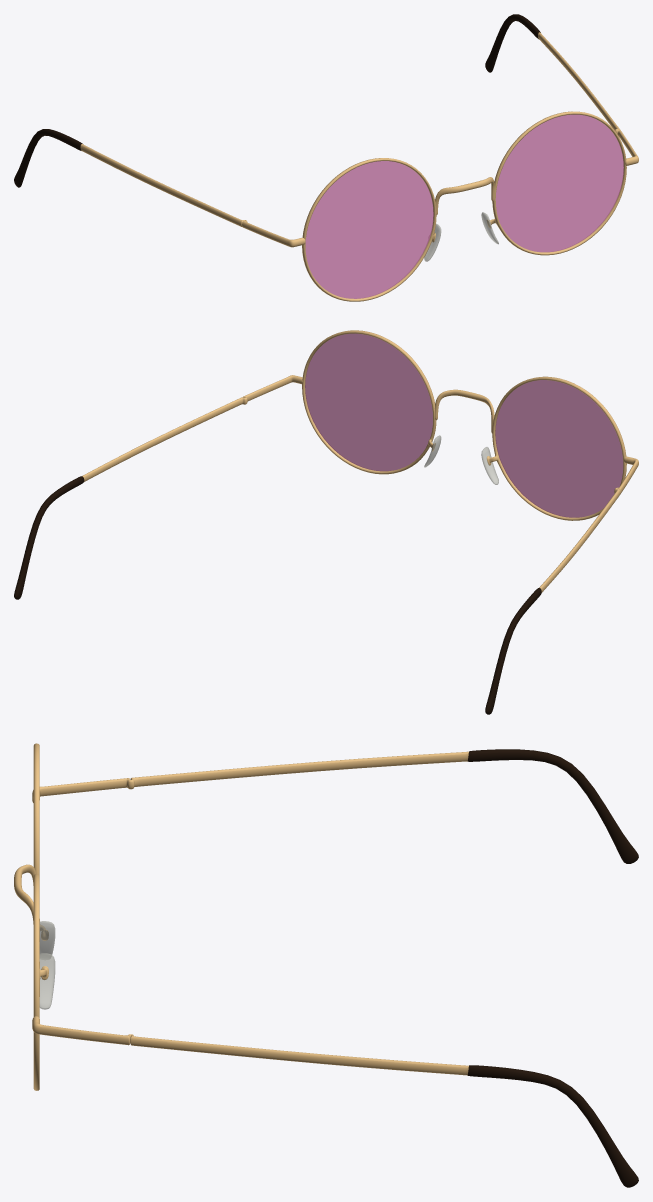
Rendered from Sunglasses(3).gltf.
The picture shows the model from 3 angles, top to bottom: view 1: azimuth 30°, elevation 25°; view 2: azimuth 150°, elevation 25°; view 3: azimuth 270°, elevation 25°; orthographic projection. The views are drawn at different scales.
Visible parts, largest first — view 1: Sunglasses(3); view 2: Sunglasses(3); view 3: Sunglasses(3).
Part boxes in pixels (x1,y1,x2,y2): Sunglasses(3): (14, 14, 638, 301); Sunglasses(3): (14, 330, 638, 714); Sunglasses(3): (14, 743, 638, 1187).
Size of the model in its own units: 2.48 by 0.733 by 2.01.
